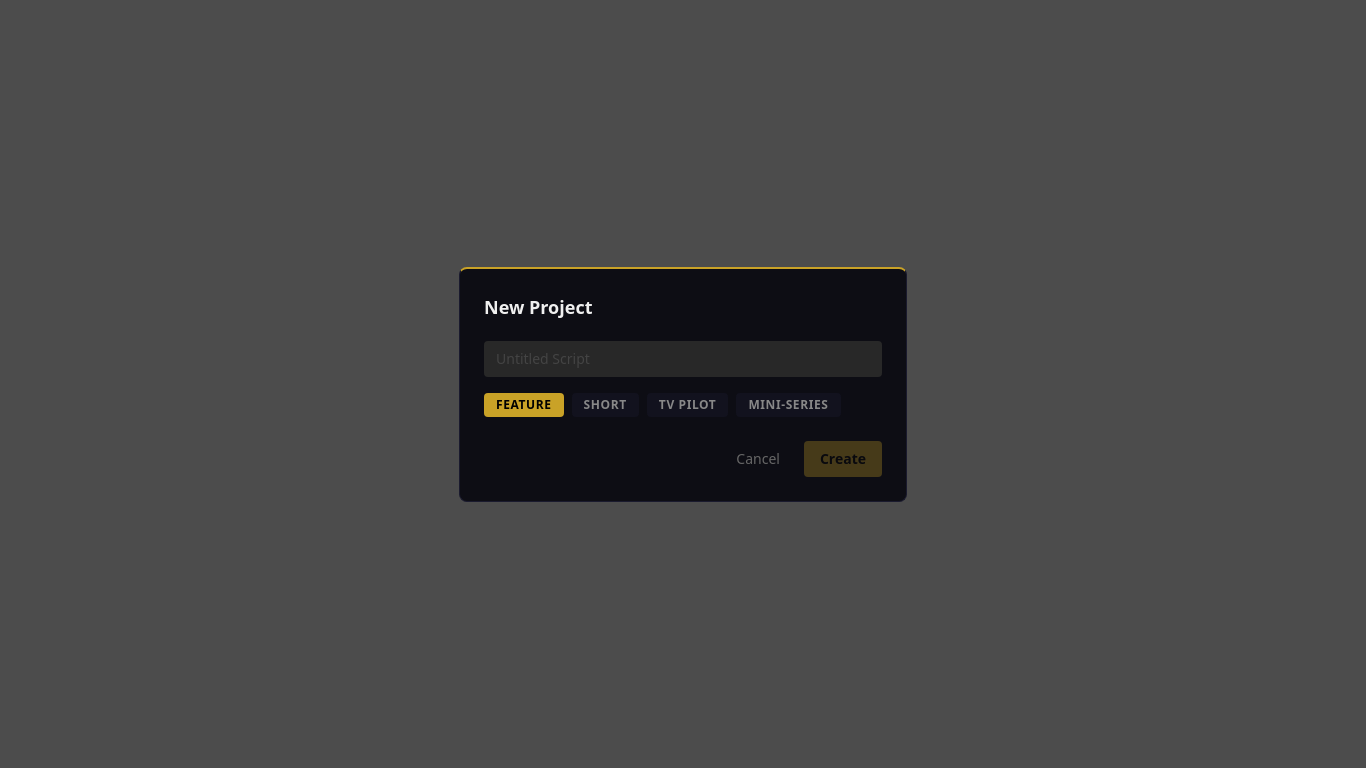
Scenario: NewProjectModal › Create button is enabled when title is non-empty
The width and height of the screenshot is (1366, 768).
In the field with placeholder "Untitled Script": (683, 358) x1=484 y1=340 x2=882 y2=376, type "My Script"
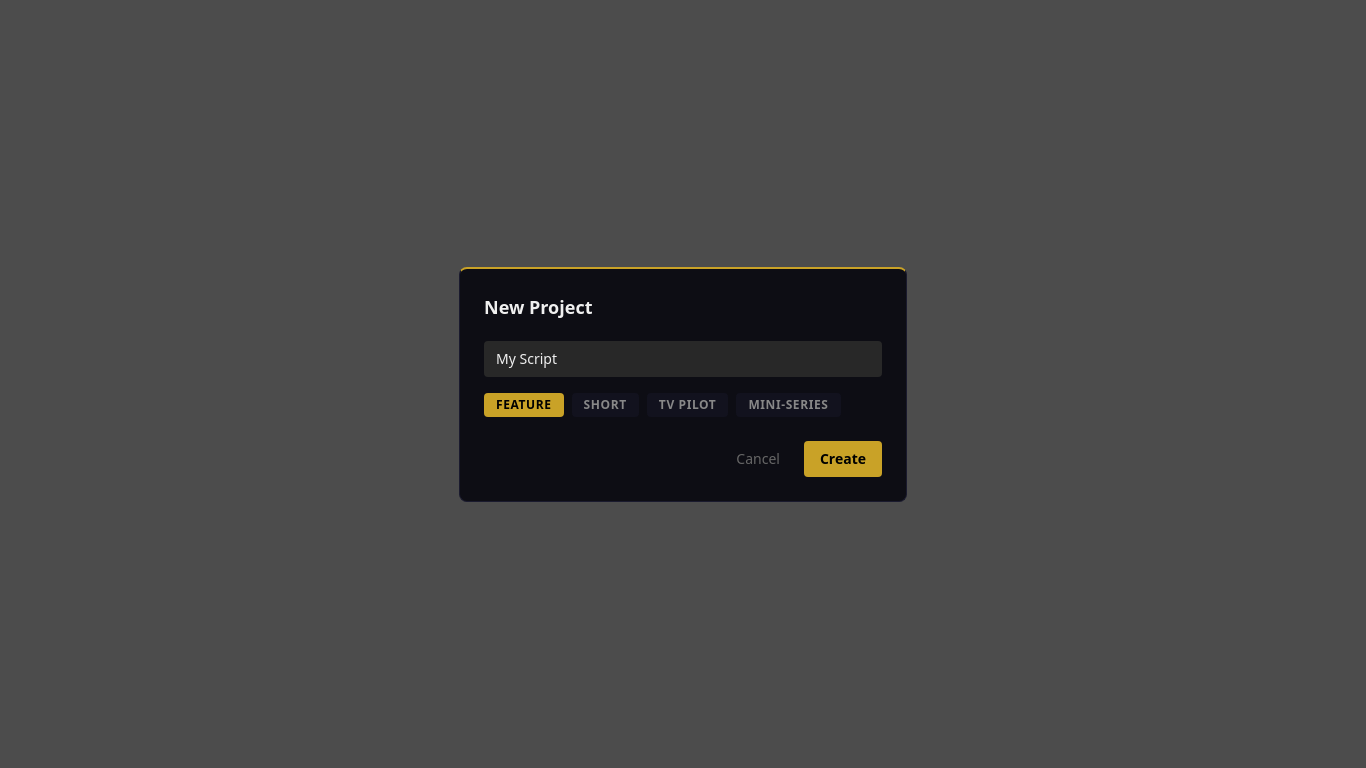
Now the button "Create" is enabled, box x1=804 y1=440 x2=882 y2=476
